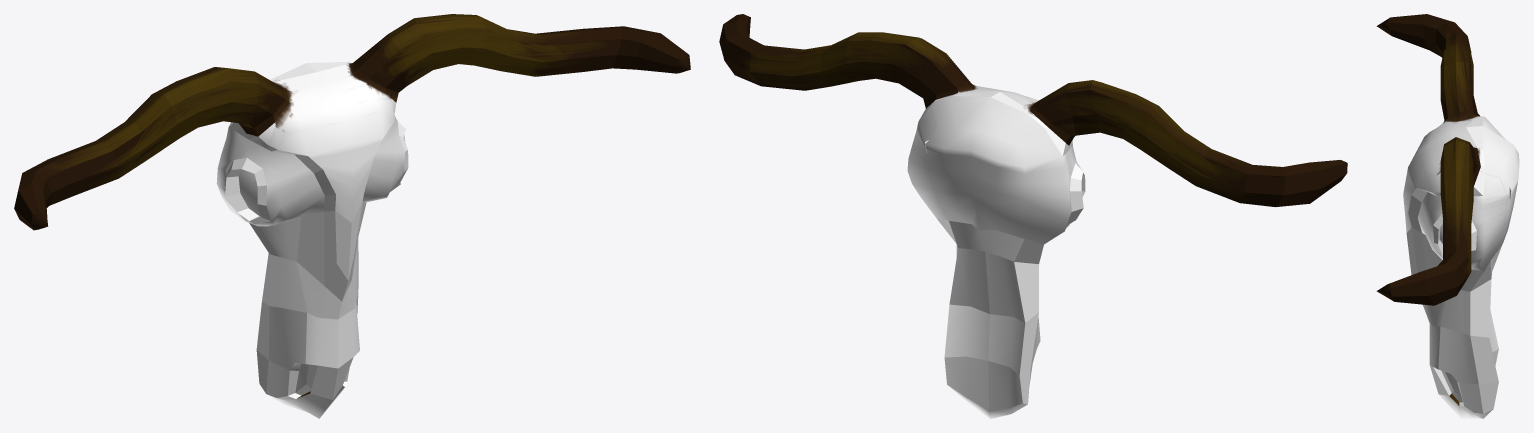
Rendered from craneo.fbx.
3 views of the same model, side by side, from view 1: azimuth 30°, elevation 25°; view 2: azimuth 150°, elevation 25°; view 3: azimuth 270°, elevation 25° (orthographic). The views are drawn at different scales.
Parts seen in each view (by area): view 1: pCube3; view 2: pCube3; view 3: pCube3.
Part boxes in pixels (left/top/right/bottom): pCube3: left=14, top=14, right=690, bottom=418; pCube3: left=719, top=14, right=1347, bottom=418; pCube3: left=1376, top=14, right=1519, bottom=418.
Bounding box in the file's own units: 158 × 86.08 × 35.11.
